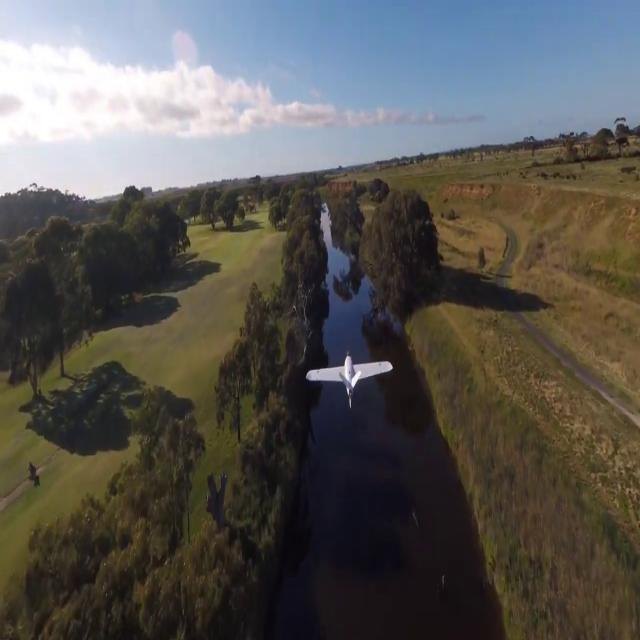iha: (338, 351, 362, 402)
